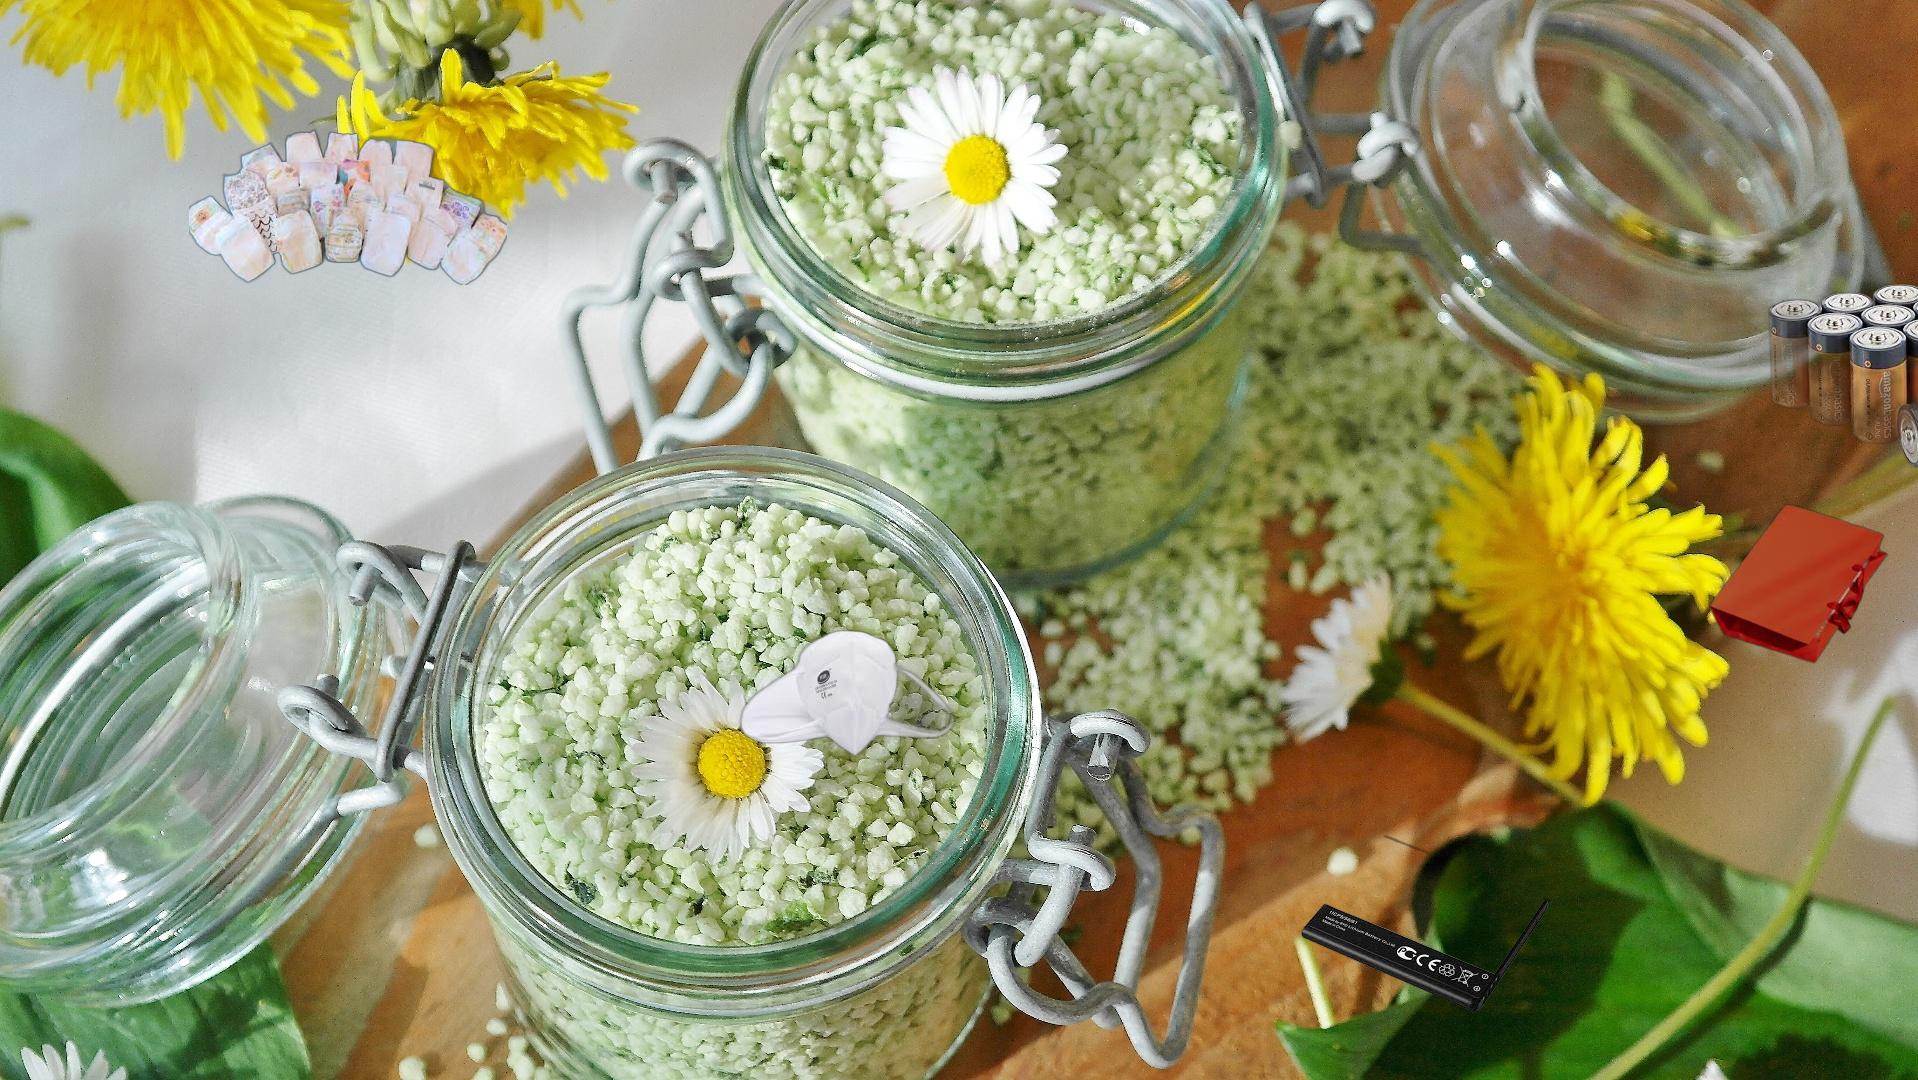battery: (1299, 834, 1553, 1015), (1767, 275, 1918, 472)
paper-bag: (1707, 502, 1889, 666)
trash: (188, 126, 507, 284), (736, 627, 960, 767)
